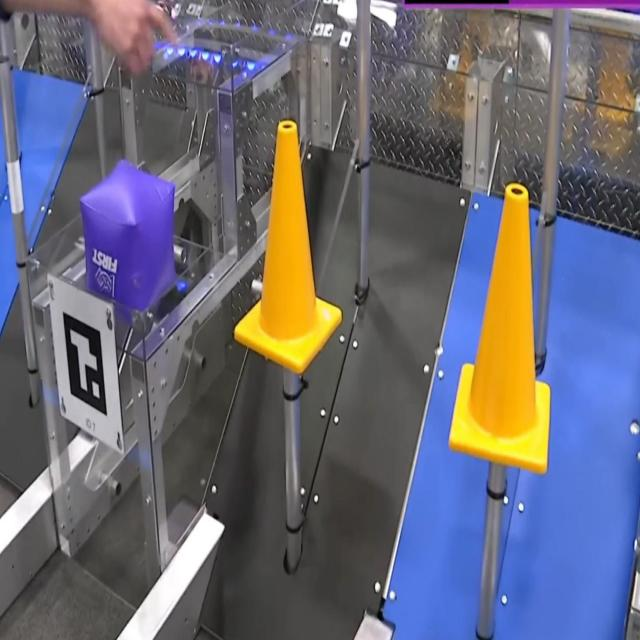frc_cone: (451, 181, 556, 472), (236, 122, 342, 370)
frc_cube: (76, 153, 177, 329)
